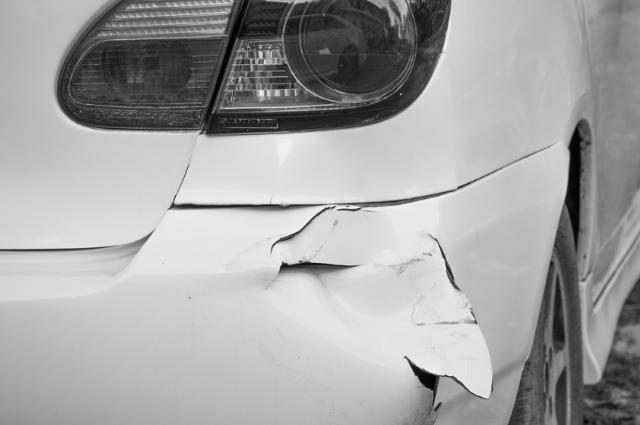Bumper: (181, 202, 537, 414)
